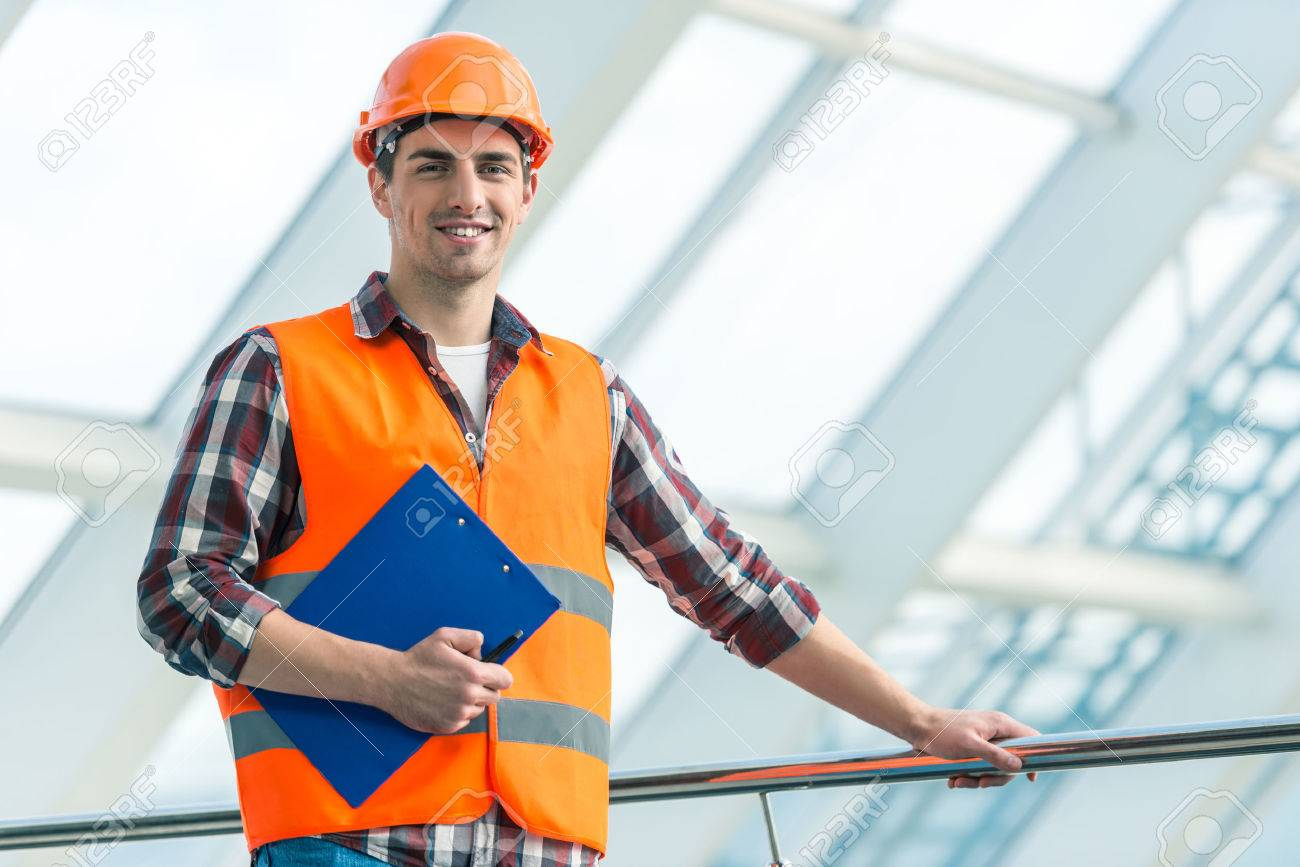casco: (350, 28, 556, 173)
